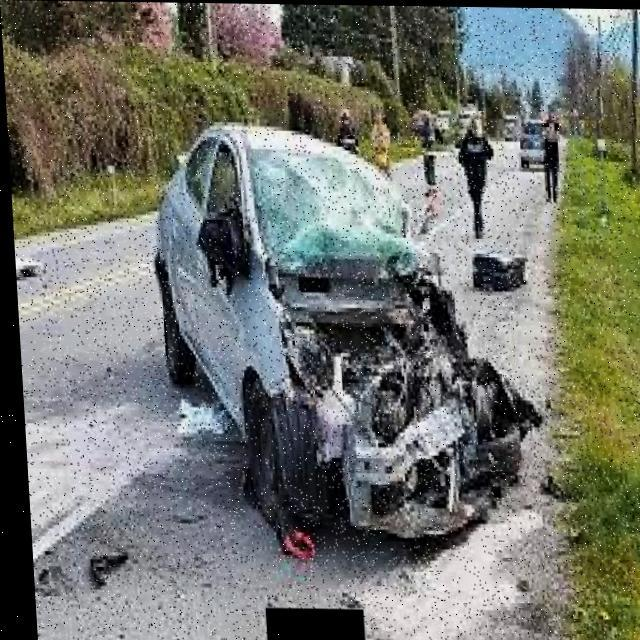single accident: (156, 93, 544, 594)
